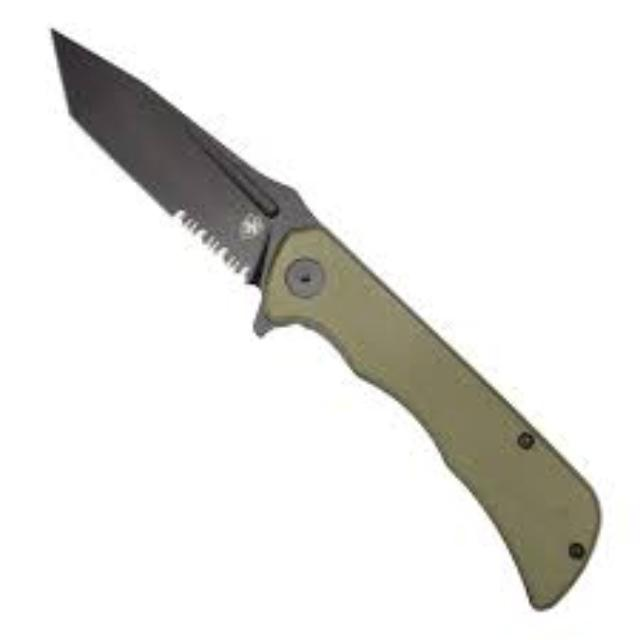Knife: (48, 26, 600, 608)
